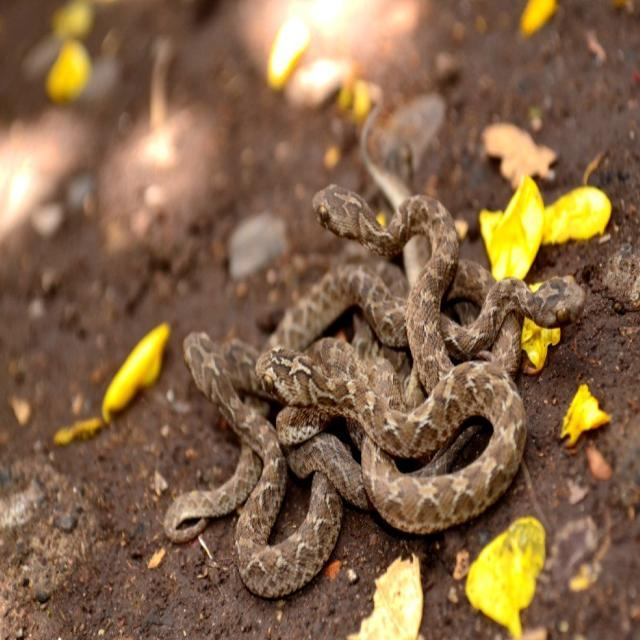Snake: (160, 181, 590, 606)
